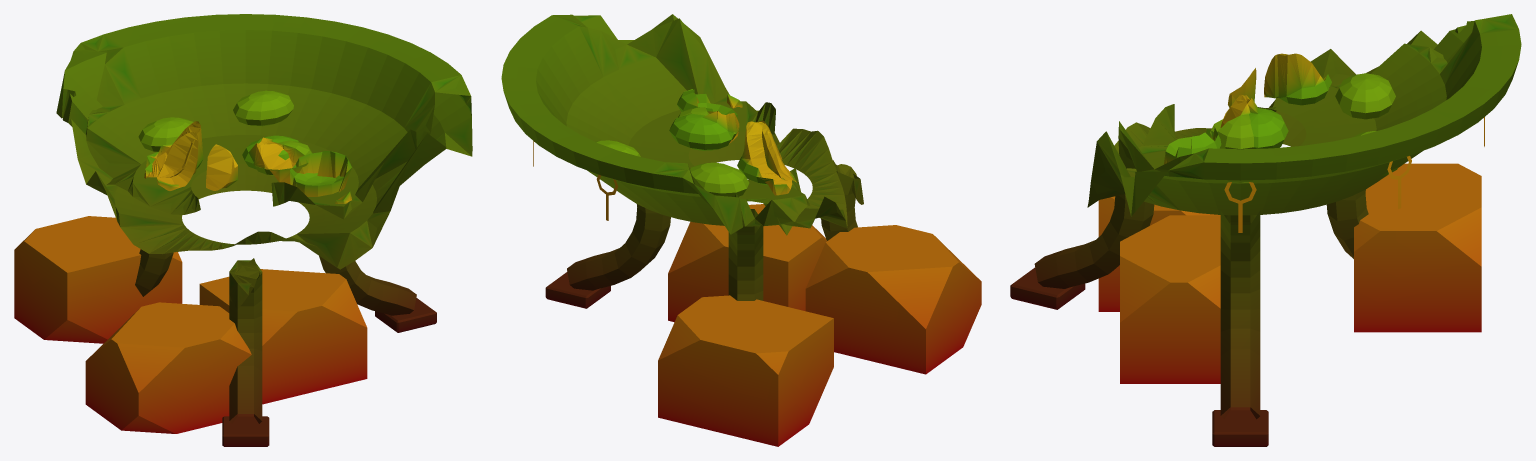
Rendered from brazier_broken.glb.
3 views of the same model, side by side, from view 1: azimuth 30°, elevation 25°; view 2: azimuth 150°, elevation 25°; view 3: azimuth 270°, elevation 25° (orthographic). The views are drawn at different scales.
Visible parts, largest first — view 1: brazier_broken; view 2: brazier_broken; view 3: brazier_broken.
Boxes of the visible parts, <box> form: brazier_broken: <box>14,14,472,446</box>; brazier_broken: <box>501,14,981,446</box>; brazier_broken: <box>1010,14,1521,446</box>.
Size of what is drawn, in the model's own units: 2.19 by 1.4 by 2.18.
